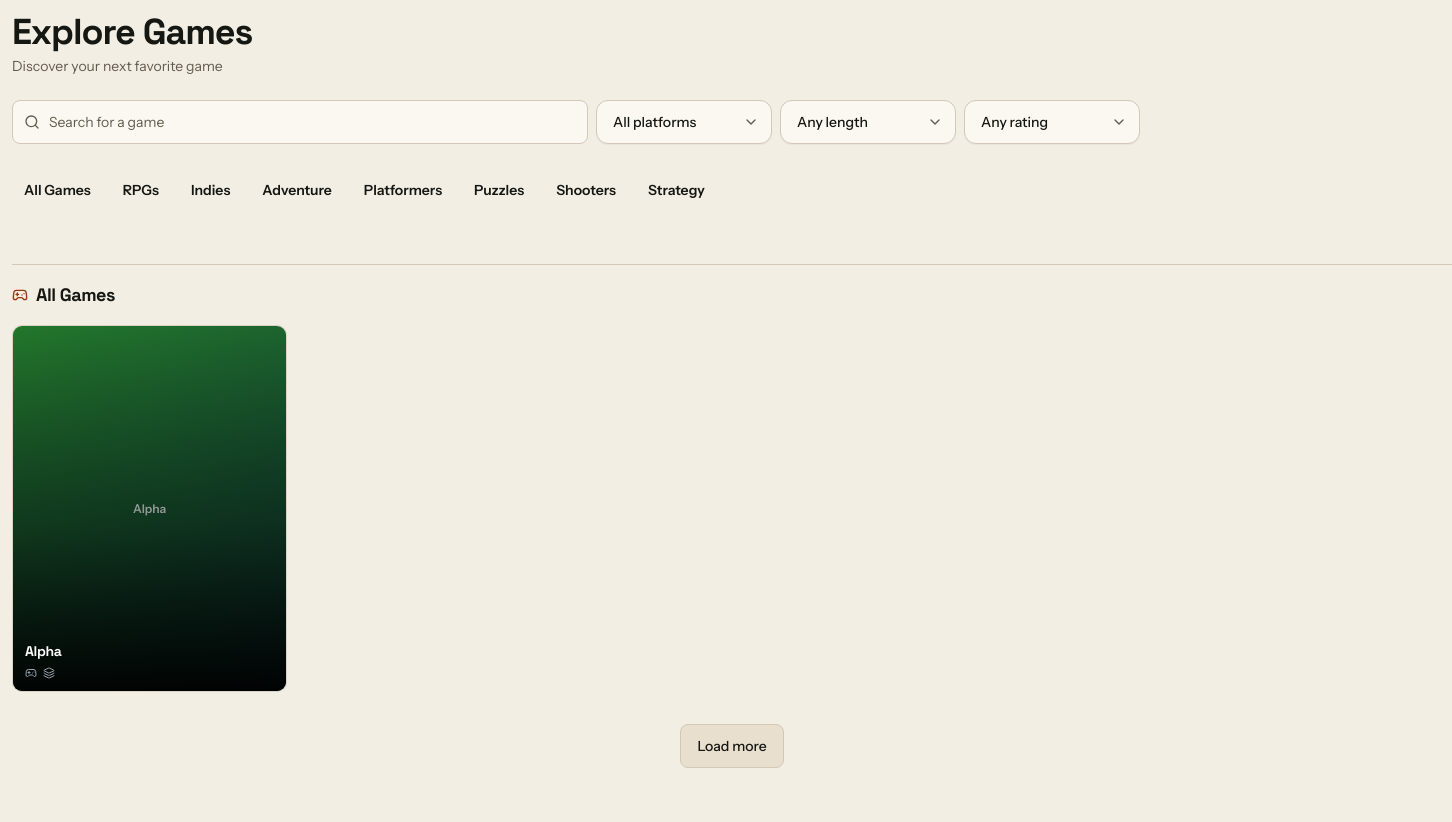
it: Explore › loads the next page with the cursor
Click the button "Load more": (732, 746) [680, 724, 784, 768]
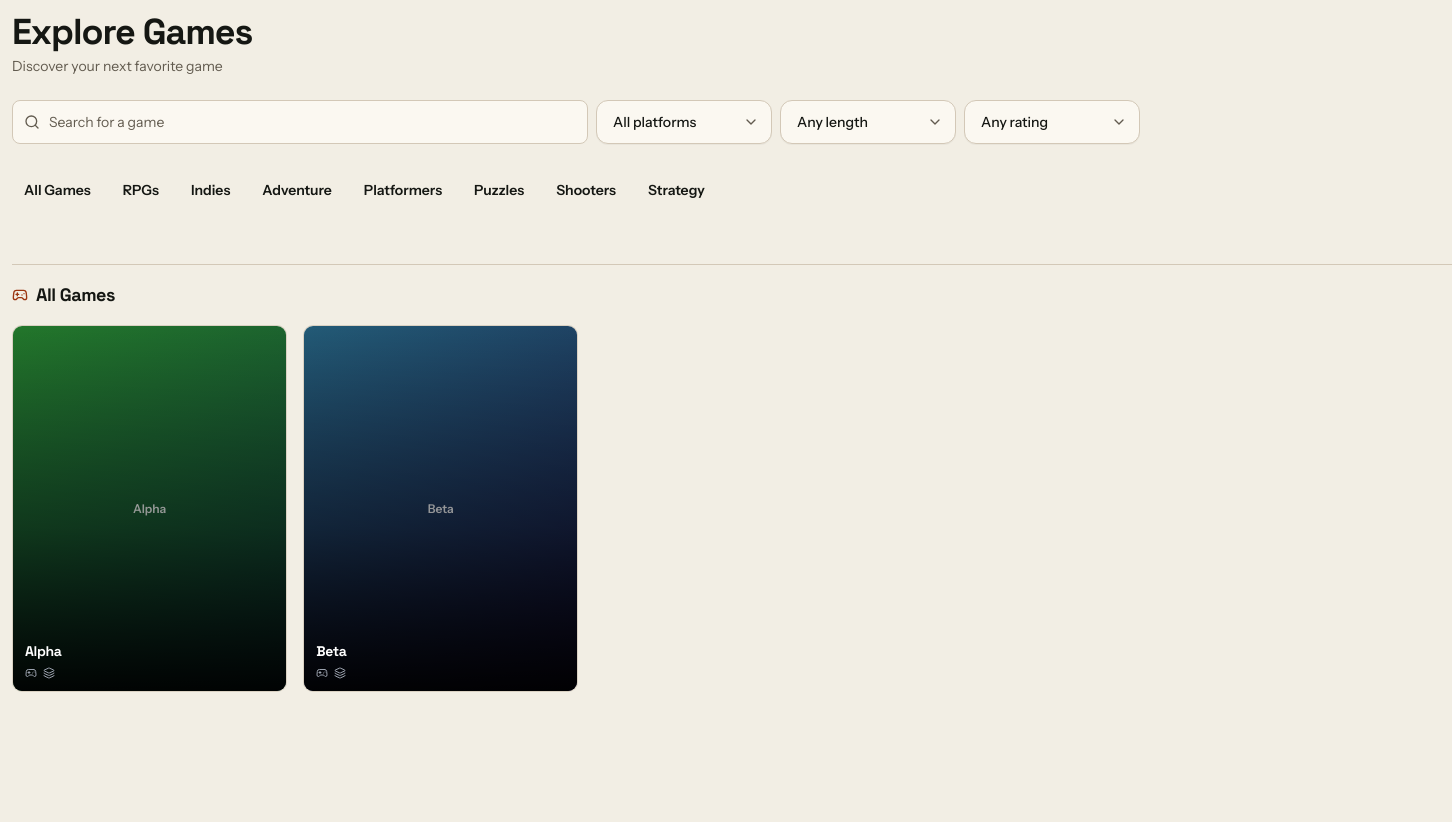
Expected: the link "Beta Beta" is shown, [303, 325, 578, 692]
Expected: the button "Load more" is gone
